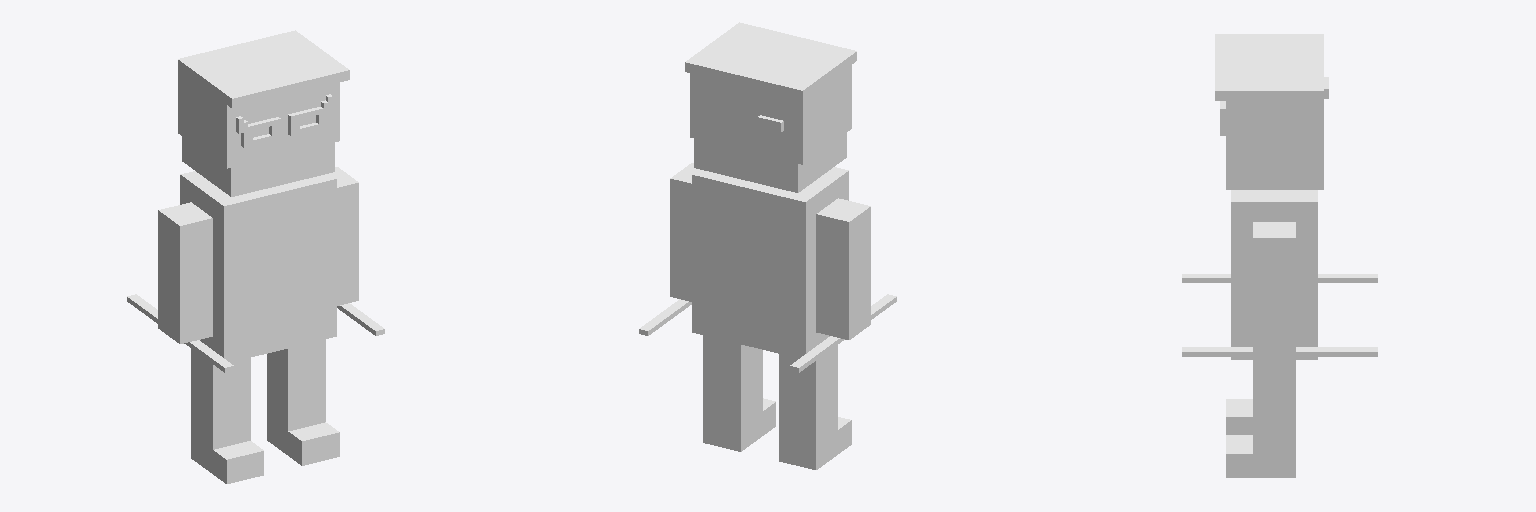
Rendered from Nightwing.obj.
3 views of the same model, side by side, from view 1: azimuth 30°, elevation 25°; view 2: azimuth 150°, elevation 25°; view 3: azimuth 270°, elevation 25° (orthographic).
Parts seen in each view (by area): view 1: object 1; view 2: object 1; view 3: object 1.
Part boxes in pixels (left/top/right/bottom): object 1: left=127, top=30, right=384, bottom=483; object 1: left=639, top=22, right=896, bottom=469; object 1: left=1182, top=34, right=1377, bottom=477.
Bounding box in the file's own units: 3.8 × 7.9 × 3.6.